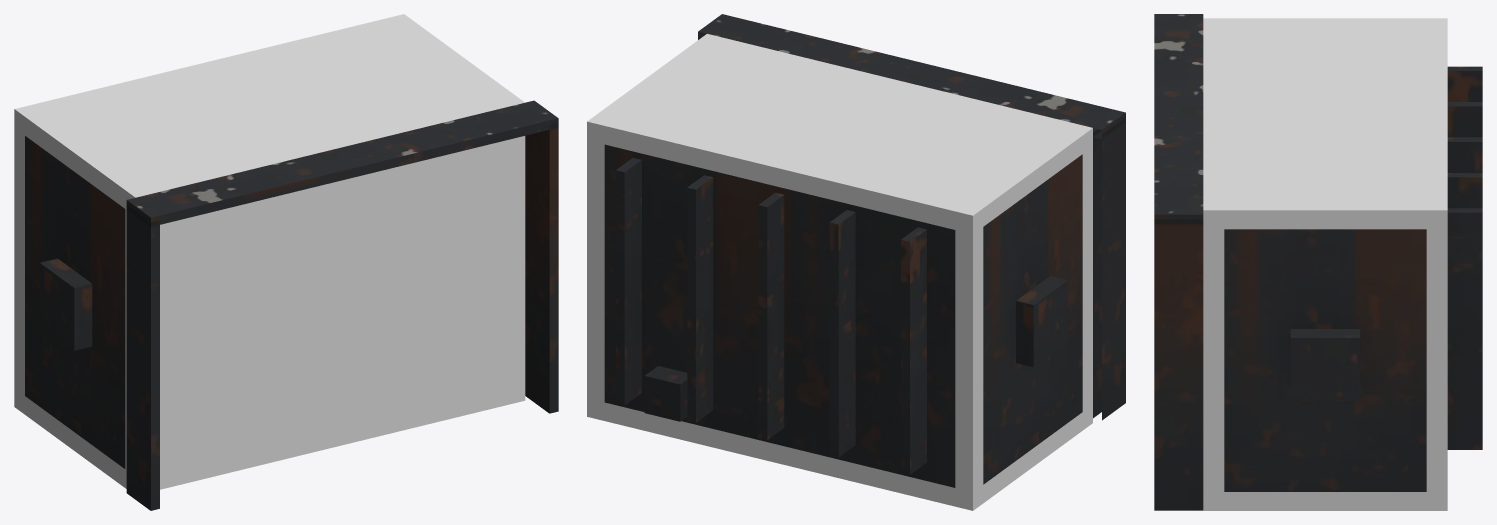
The model's file is Kit_Lot_FloodLamp_01.glb.
3 renders of one model, left to right at view 1: azimuth 30°, elevation 25°; view 2: azimuth 150°, elevation 25°; view 3: azimuth 270°, elevation 25°, orthographic.
Visible parts, largest first — view 1: COL_Kit_Lot_FloodLamp_01_0, Kit_Lot_FloodLamp_01_LOD0; view 2: Kit_Lot_FloodLamp_01_LOD0, COL_Kit_Lot_FloodLamp_01_0; view 3: Kit_Lot_FloodLamp_01_LOD0, COL_Kit_Lot_FloodLamp_01_0.
Boxes of the visible parts, x1,y1,x2,y2 form: COL_Kit_Lot_FloodLamp_01_0: [14, 14, 525, 489]; Kit_Lot_FloodLamp_01_LOD0: [25, 100, 558, 510]; Kit_Lot_FloodLamp_01_LOD0: [604, 14, 1125, 487]; COL_Kit_Lot_FloodLamp_01_0: [587, 34, 1092, 510]; Kit_Lot_FloodLamp_01_LOD0: [1154, 14, 1482, 510]; COL_Kit_Lot_FloodLamp_01_0: [1203, 18, 1447, 510].
Size of what is drawn, in the model's own units: 1.42 by 0.95 by 0.94.
Materials: 1 (1 with a texture image).
